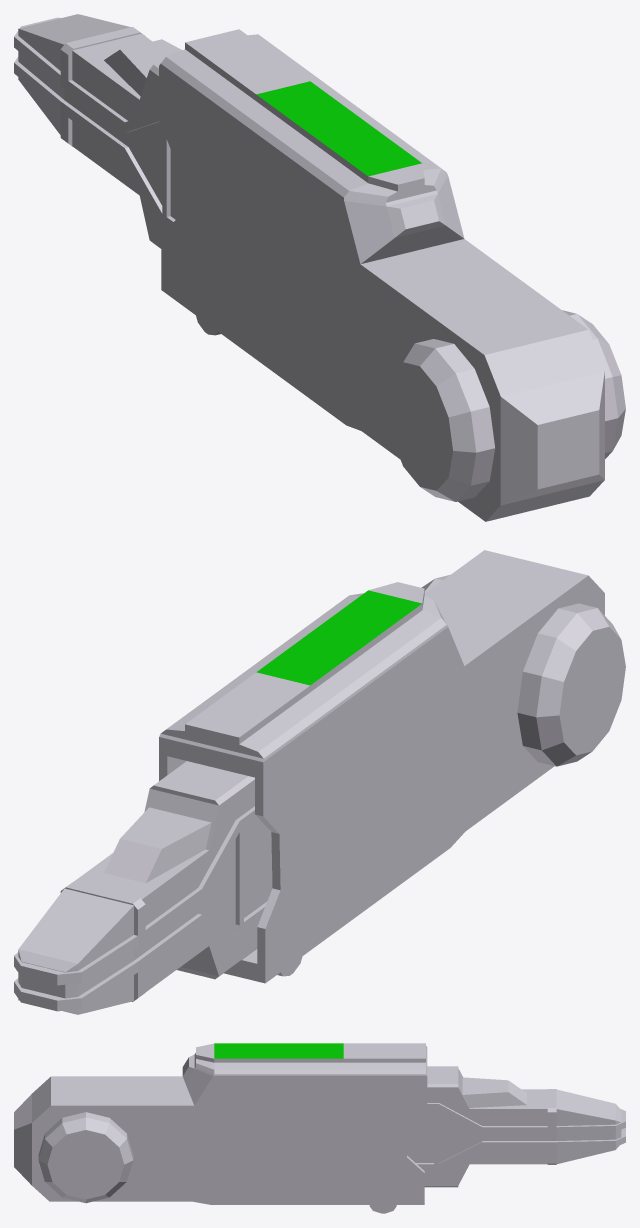
Rendered from hardpoint.gun.bracket.fbx.
3 views of the same model, one above another, from view 1: azimuth 30°, elevation 25°; view 2: azimuth 150°, elevation 25°; view 3: azimuth 270°, elevation 25° (orthographic). The views are drawn at different scales.
Visible parts, largest first — view 1: hardpoint.gun.bracket; view 2: hardpoint.gun.bracket; view 3: hardpoint.gun.bracket.
Part boxes in pixels (<box>): hardpoint.gun.bracket: <box>14,14,625,521</box>; hardpoint.gun.bracket: <box>14,550,625,1014</box>; hardpoint.gun.bracket: <box>14,1043,625,1213</box>.
Bounding box in the file's own units: 0.283 × 0.4069 × 1.5.
